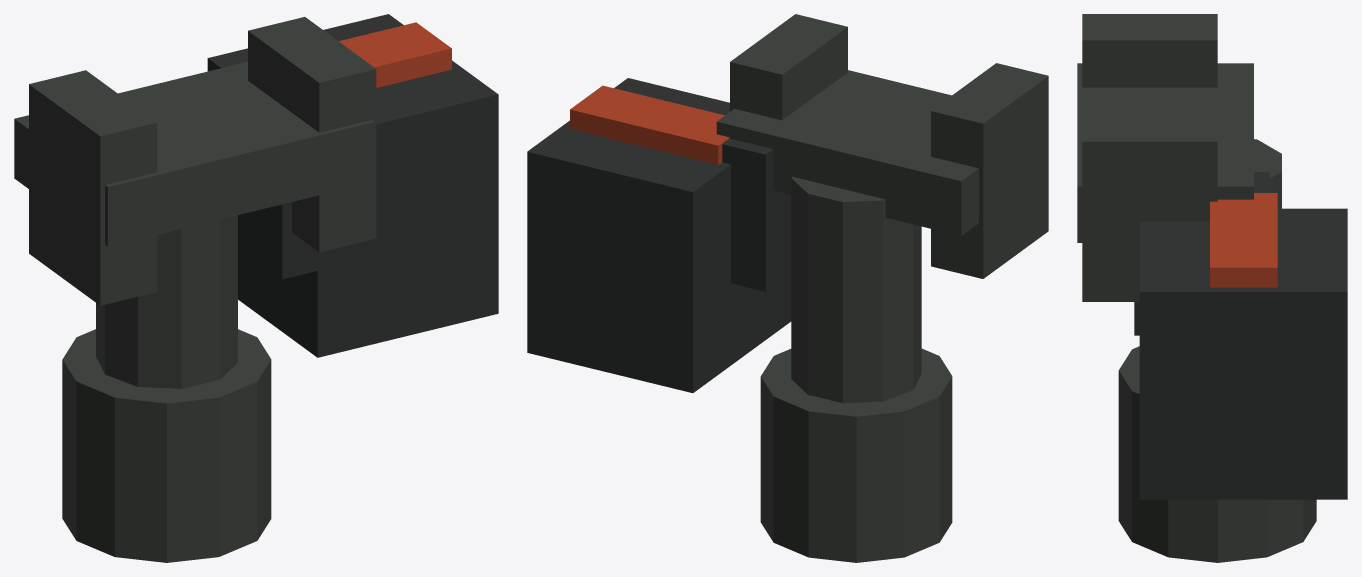
File: Bastion_MT12_MinigunBase.obj
The picture shows the model from 3 angles, left to right: view 1: azimuth 30°, elevation 25°; view 2: azimuth 150°, elevation 25°; view 3: azimuth 270°, elevation 25°; orthographic projection. The views are drawn at different scales.
Visible parts, largest first — view 1: Bastion_MT12_MinigunBase; view 2: Bastion_MT12_MinigunBase; view 3: Bastion_MT12_MinigunBase.
Part boxes in pixels (x1=…): Bastion_MT12_MinigunBase: x1=14, y1=14, x2=498, y2=562; Bastion_MT12_MinigunBase: x1=527, y1=14, x2=1048, y2=562; Bastion_MT12_MinigunBase: x1=1077, y1=14, x2=1347, y2=562.
Bounding box in the file's own units: 0.9 × 0.94 × 0.52.
1 material, 1 textured.
